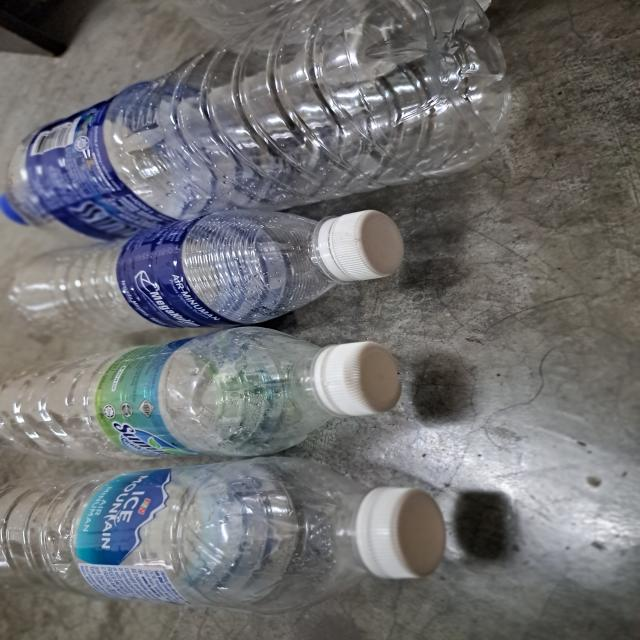plastic bottle: (6, 0, 518, 244), (0, 456, 374, 612), (0, 208, 339, 339), (0, 329, 334, 461)
plastic bottle cap: (362, 486, 447, 579), (326, 341, 402, 417), (330, 210, 406, 282)
